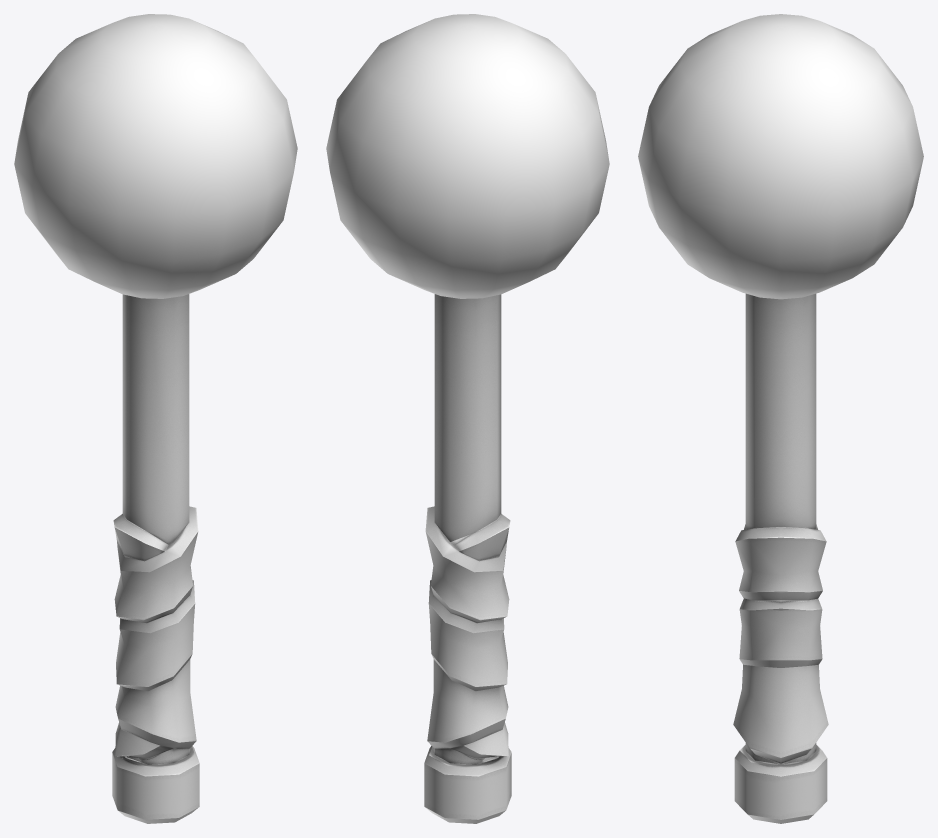
3 renders of one model, left to right at view 1: azimuth 30°, elevation 25°; view 2: azimuth 150°, elevation 25°; view 3: azimuth 270°, elevation 25°, orthographic.
Visible parts, largest first — view 1: 007_a_cudgel; view 2: 007_a_cudgel; view 3: 007_a_cudgel.
Part boxes in pixels (box(x1,y1,x2,y2)): 007_a_cudgel: box(14, 14, 297, 823); 007_a_cudgel: box(326, 14, 609, 823); 007_a_cudgel: box(638, 14, 923, 823).
Size of the model in its own units: 19.09 by 57.58 by 19.09.
